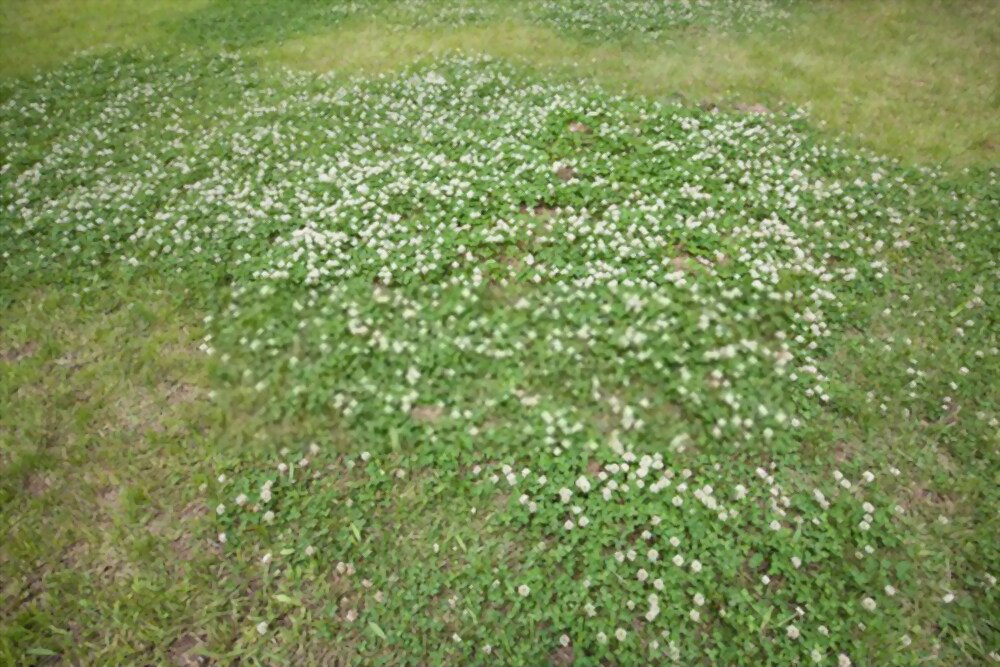clover: (33, 49, 981, 657)
